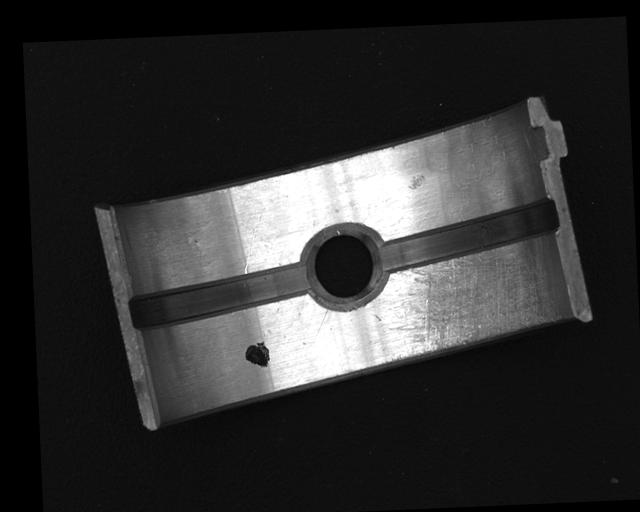blot: (244, 340, 270, 369)
bruise: (407, 172, 426, 191)
gap: (368, 196, 562, 274), (125, 261, 311, 331)
hole: (305, 224, 382, 308)
nick: (240, 207, 267, 275), (312, 307, 330, 344)
scratch: (383, 239, 565, 368)
